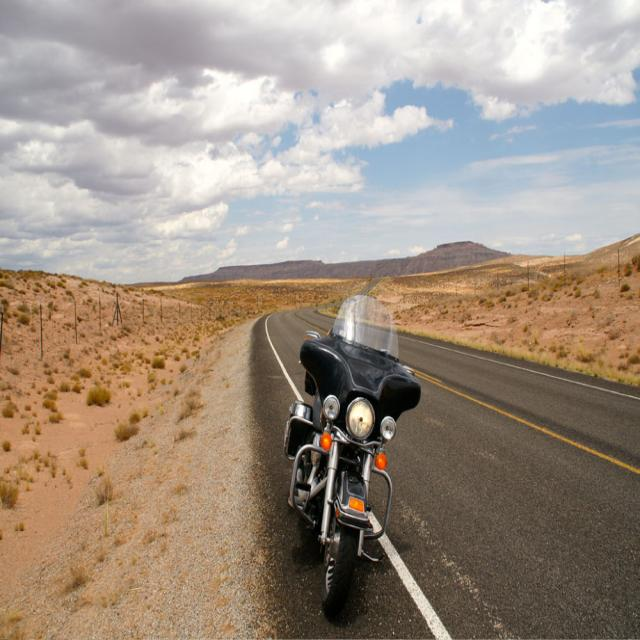MOTORCYCLE: (304, 300, 412, 602)
